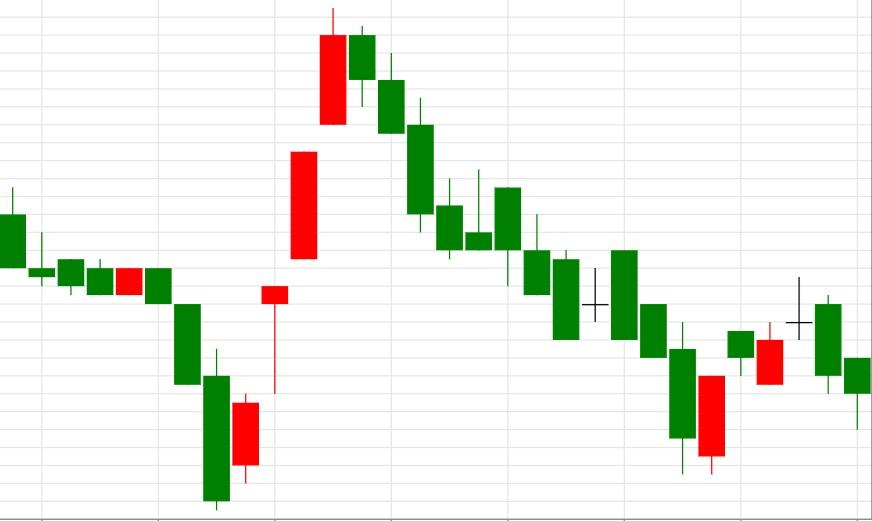three_black_crows_fall: (202, 8, 435, 510)
